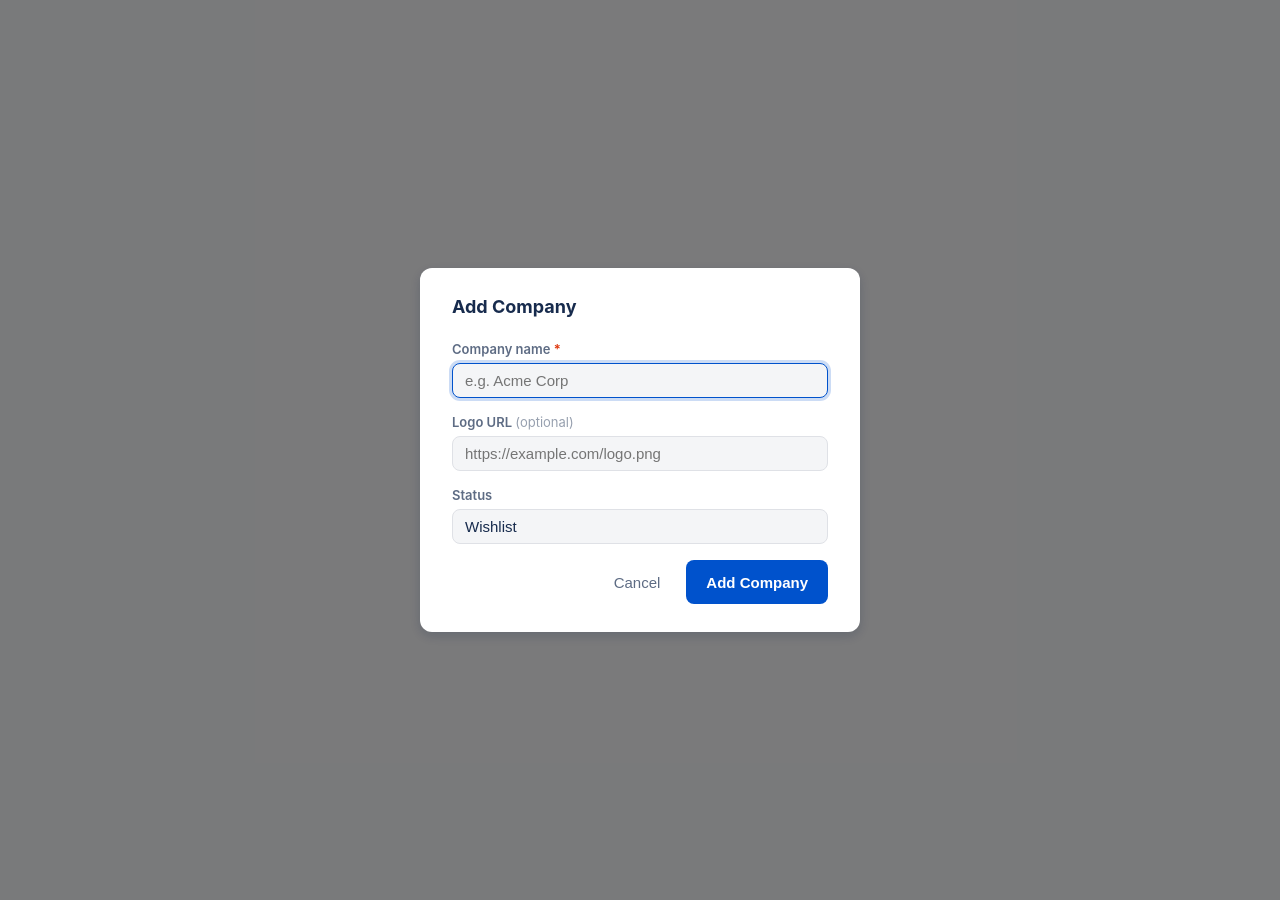
Test: AddCompanyModal › shows a validation error when submitting with an empty name
Click the button "Add Company" at (757, 582), box [686,560,828,604]
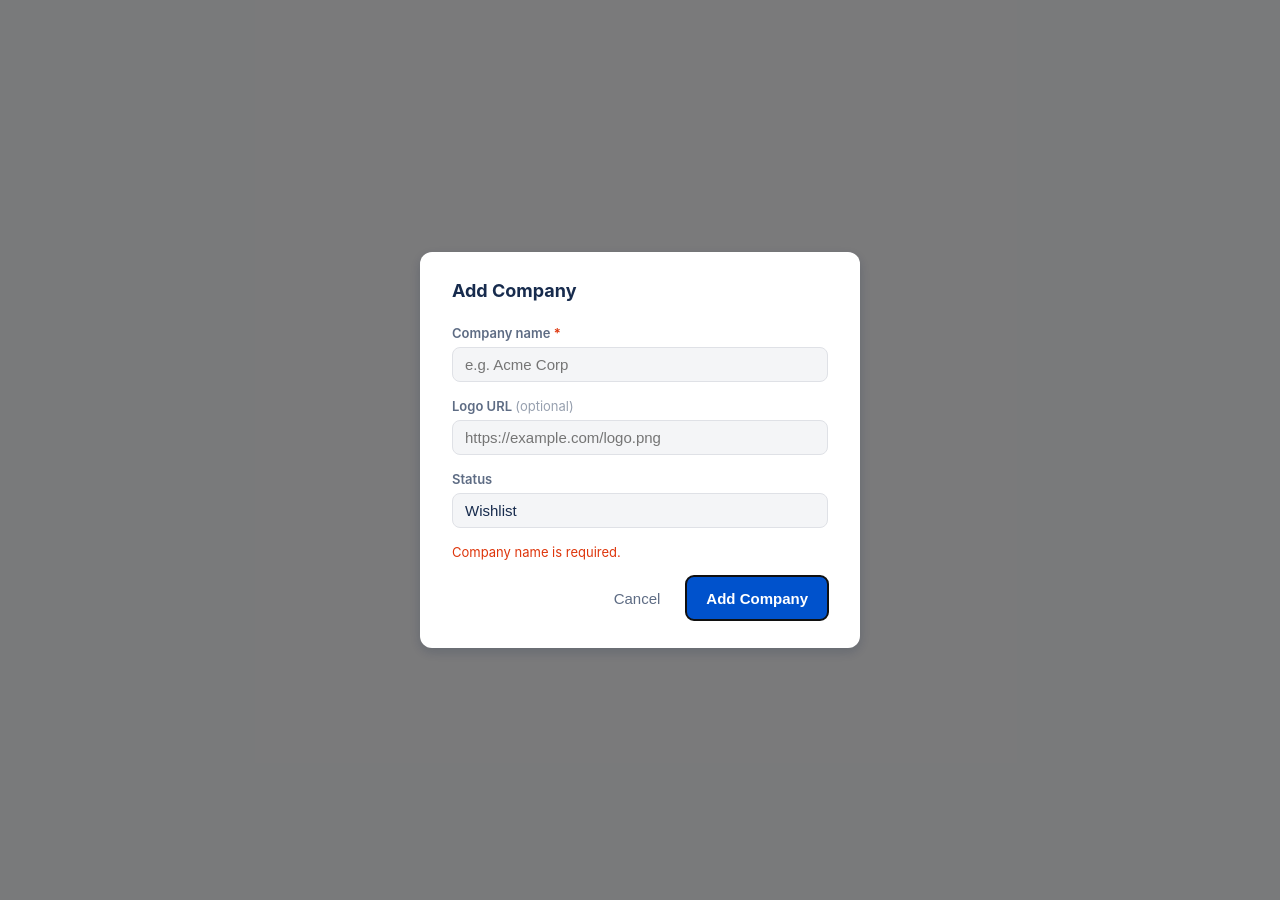
Check: the text "Company name is required." is shown, box [452,544,621,560]
